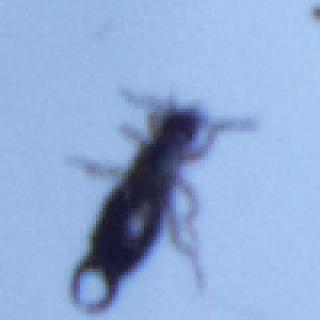earwig: (59, 83, 258, 318)
